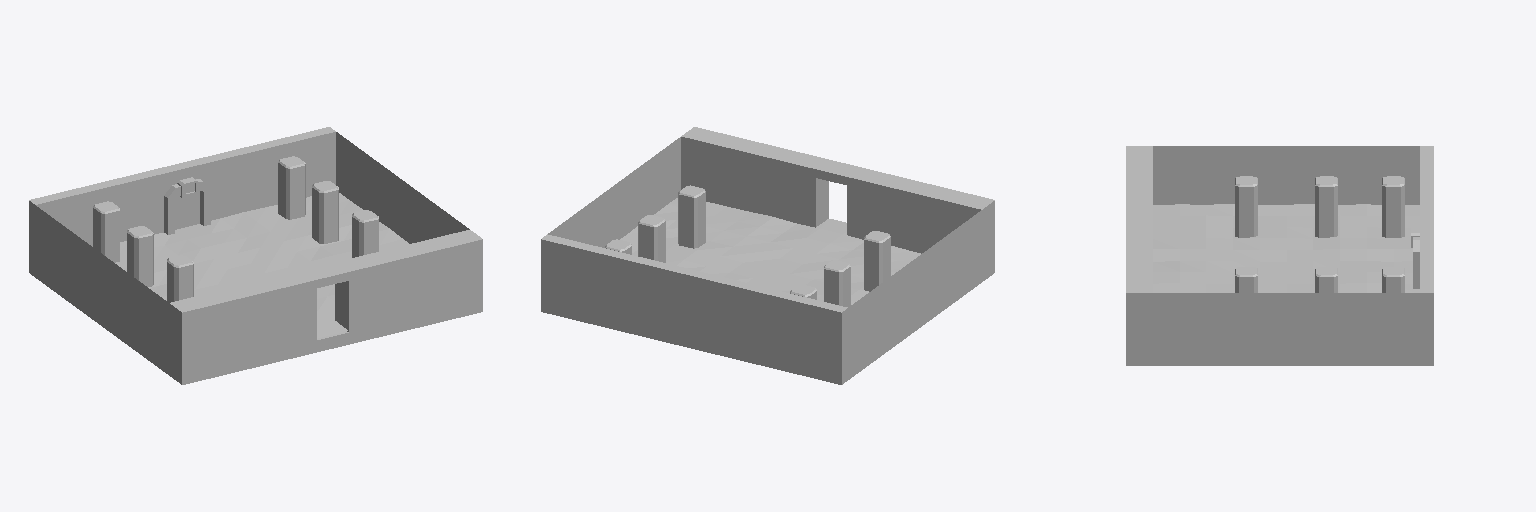
Rendered from arena.obj.
3 views of the same model, side by side, from view 1: azimuth 30°, elevation 25°; view 2: azimuth 150°, elevation 25°; view 3: azimuth 270°, elevation 25° (orthographic).
Visible parts, largest first — view 1: wall_front_Untitled.005, wall_back_Untitled, water_Untitled.011, ice_pillar_outline_Untitled.006, wall_left_Untitled.007, wall_right_Untitled.001, floor_below_Untitled.002, door_Untitled.004; view 2: wall_front_Untitled.005, wall_back_Untitled, water_Untitled.011, wall_left_Untitled.007, ice_pillar_outline_Untitled.006, wall_right_Untitled.001, floor_below_Untitled.002, misc_Untitled.008; view 3: water_Untitled.011, wall_right_Untitled.001, wall_left_Untitled.007, ice_pillar_outline_Untitled.006, wall_front_Untitled.005, floor_below_Untitled.002, wall_back_Untitled.
Boxes of the visible parts, x1=… form: wall_front_Untitled.005: x1=169, y1=230, x2=482, y2=372; wall_back_Untitled: x1=29, y1=127, x2=335, y2=264; water_Untitled.011: x1=115, y1=193, x2=408, y2=338; ice_pillar_outline_Untitled.006: x1=93, y1=156, x2=378, y2=302; wall_left_Untitled.007: x1=35, y1=205, x2=168, y2=362; wall_right_Untitled.001: x1=336, y1=132, x2=469, y2=243; floor_below_Untitled.002: x1=29, y1=261, x2=482, y2=384; door_Untitled.004: x1=164, y1=177, x2=210, y2=234; wall_front_Untitled.005: x1=681, y1=127, x2=994, y2=269; wall_back_Untitled: x1=541, y1=234, x2=847, y2=372; water_Untitled.011: x1=620, y1=198, x2=920, y2=304; wall_left_Untitled.007: x1=848, y1=210, x2=981, y2=367; ice_pillar_outline_Untitled.006: x1=605, y1=185, x2=890, y2=307; wall_right_Untitled.001: x1=548, y1=137, x2=680, y2=247; floor_below_Untitled.002: x1=541, y1=261, x2=994, y2=384; misc_Untitled.008: x1=662, y1=283, x2=719, y2=344; water_Untitled.011: x1=1153, y1=204, x2=1419, y2=292; wall_right_Untitled.001: x1=1153, y1=293, x2=1419, y2=353; wall_left_Untitled.007: x1=1153, y1=146, x2=1419, y2=204; ice_pillar_outline_Untitled.006: x1=1235, y1=176, x2=1404, y2=292; wall_front_Untitled.005: x1=1126, y1=146, x2=1152, y2=353; floor_below_Untitled.002: x1=1126, y1=354, x2=1433, y2=365; wall_back_Untitled: x1=1420, y1=146, x2=1433, y2=353.
Size of the model in its own units: 11.19 by 2.58 by 9.91.